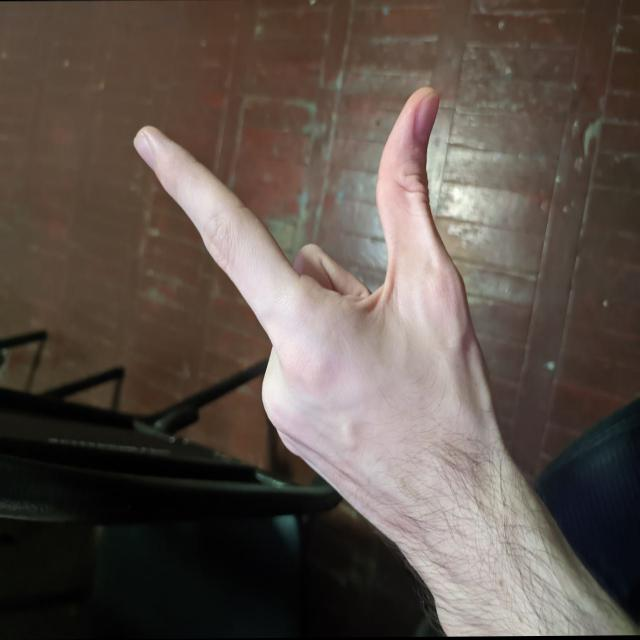-: (113, 77, 506, 521)
